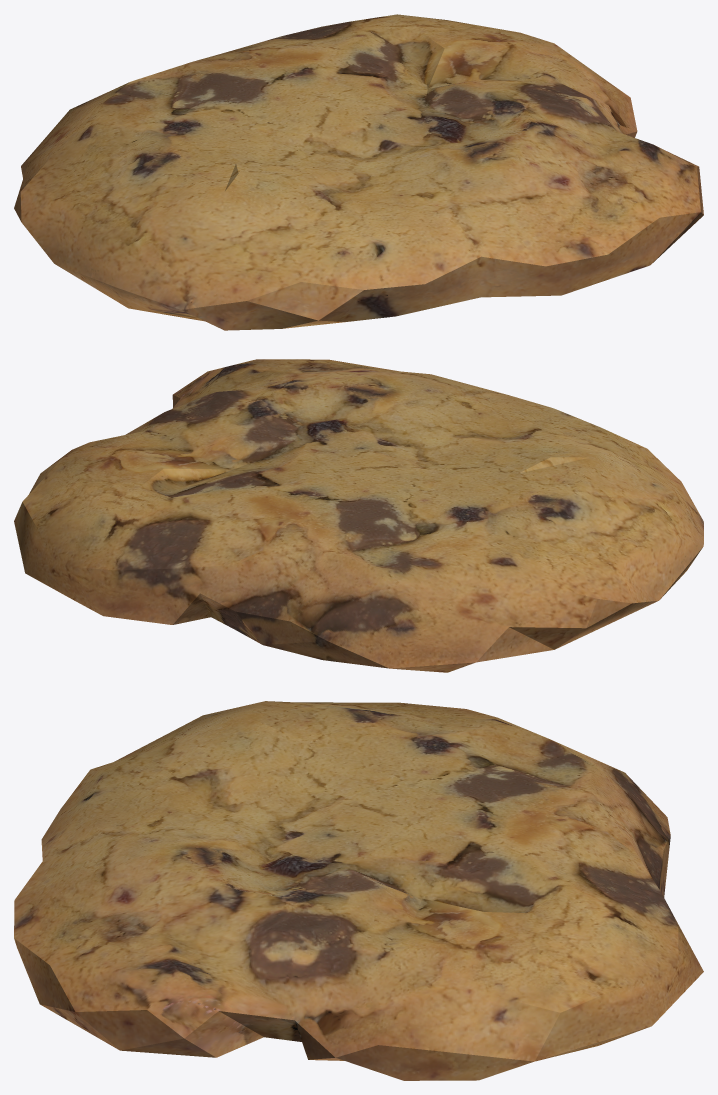
File: 3DCookie002_LQ-1K-JPG.obj
3 renders of one model, top to bottom at view 1: azimuth 30°, elevation 25°; view 2: azimuth 150°, elevation 25°; view 3: azimuth 270°, elevation 25°, orthographic. The views are drawn at different scales.
Visible parts, largest first — view 1: 3DCookie002_LQ-1K-JPG; view 2: 3DCookie002_LQ-1K-JPG; view 3: 3DCookie002_LQ-1K-JPG.
Boxes of the visible parts, bbox=[...] form: 3DCookie002_LQ-1K-JPG: bbox=[14, 14, 703, 330]; 3DCookie002_LQ-1K-JPG: bbox=[14, 359, 703, 672]; 3DCookie002_LQ-1K-JPG: bbox=[14, 701, 703, 1080].
Size of the model in its own units: 0.1109 by 0.0183 by 0.0981.
1 material, 1 textured.
